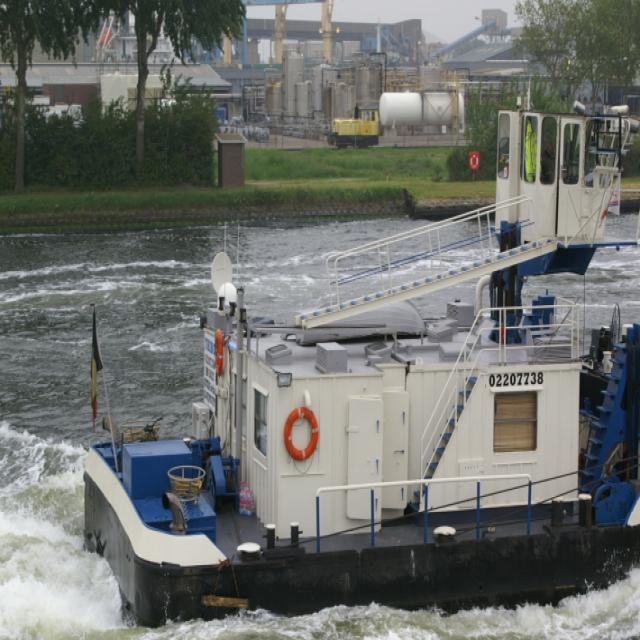tugboat: (75, 72, 640, 640)
